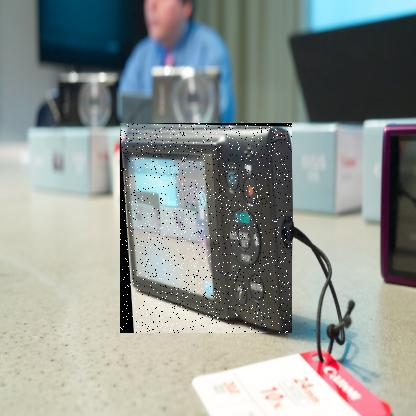Camera: (121, 124, 294, 335)
